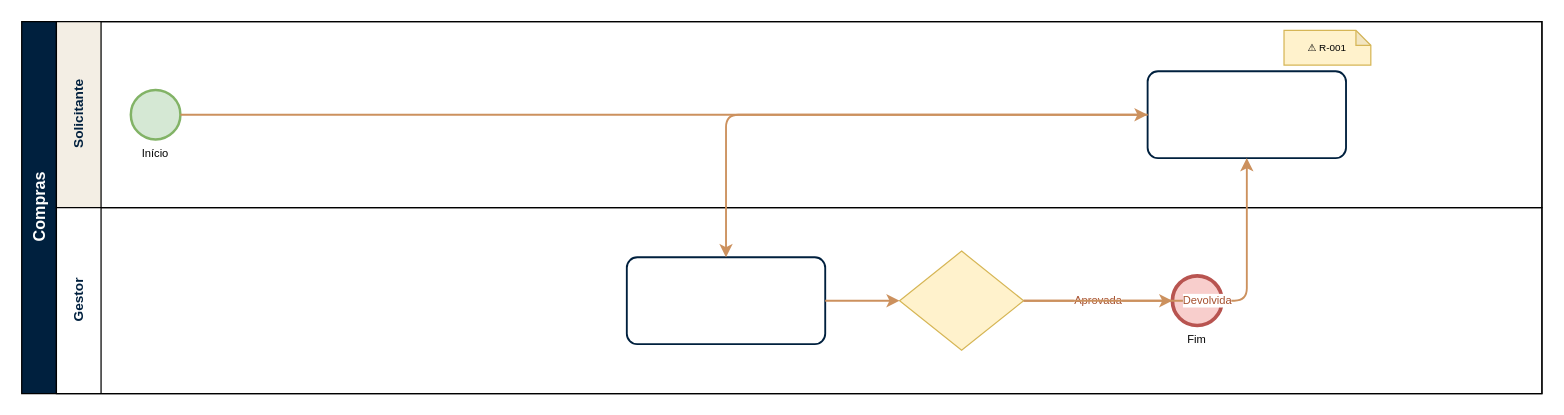
The diagram is 1564 pixels wide and 415 high, and some of its shapes have lost their labels. The shapes that lost their labels are listed below. From the top down, each one's centre as x and y in pixels, then its label:
the point at 1246,114: A01 Abrir RC
the point at 725,300: A02 Aprovar RC
the point at 961,300: Aprovada?
